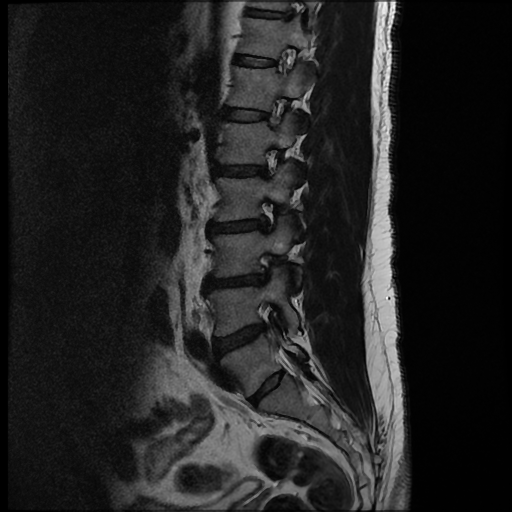LFS0: (251, 139, 290, 186), (248, 192, 286, 239)
